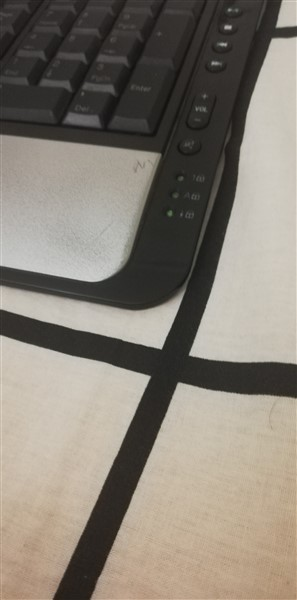klavye: (1, 3, 275, 310)
